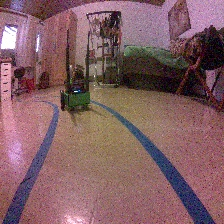rob: (58, 69, 90, 110)
